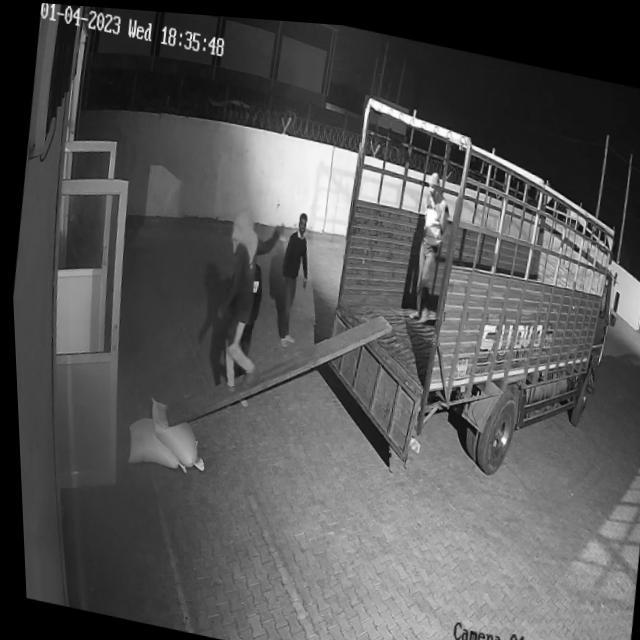sack: (138, 393, 209, 470), (119, 411, 189, 472)
